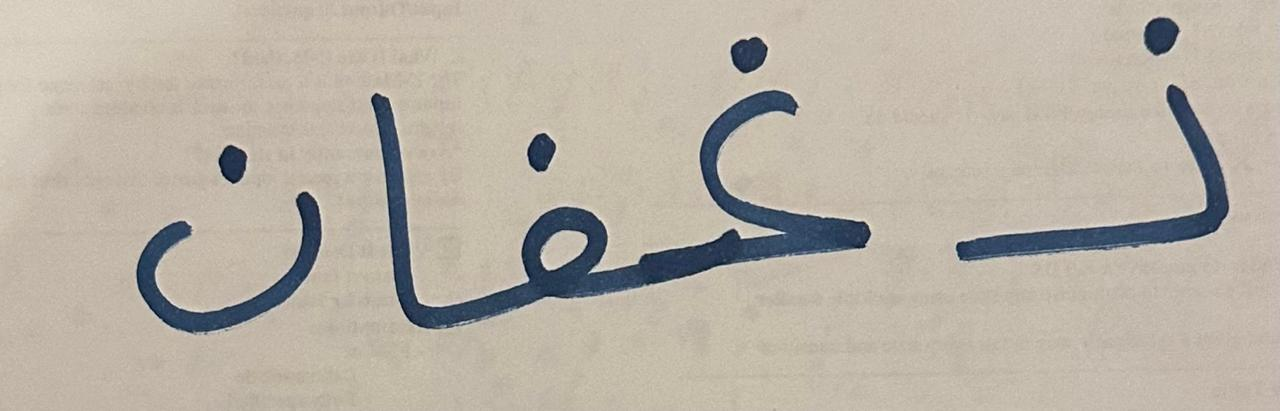ain: (922, 4, 1268, 296)
alef: (346, 59, 456, 362)
feh: (460, 75, 638, 359)
ghain: (641, 4, 915, 309)
qaf: (95, 89, 343, 377)
